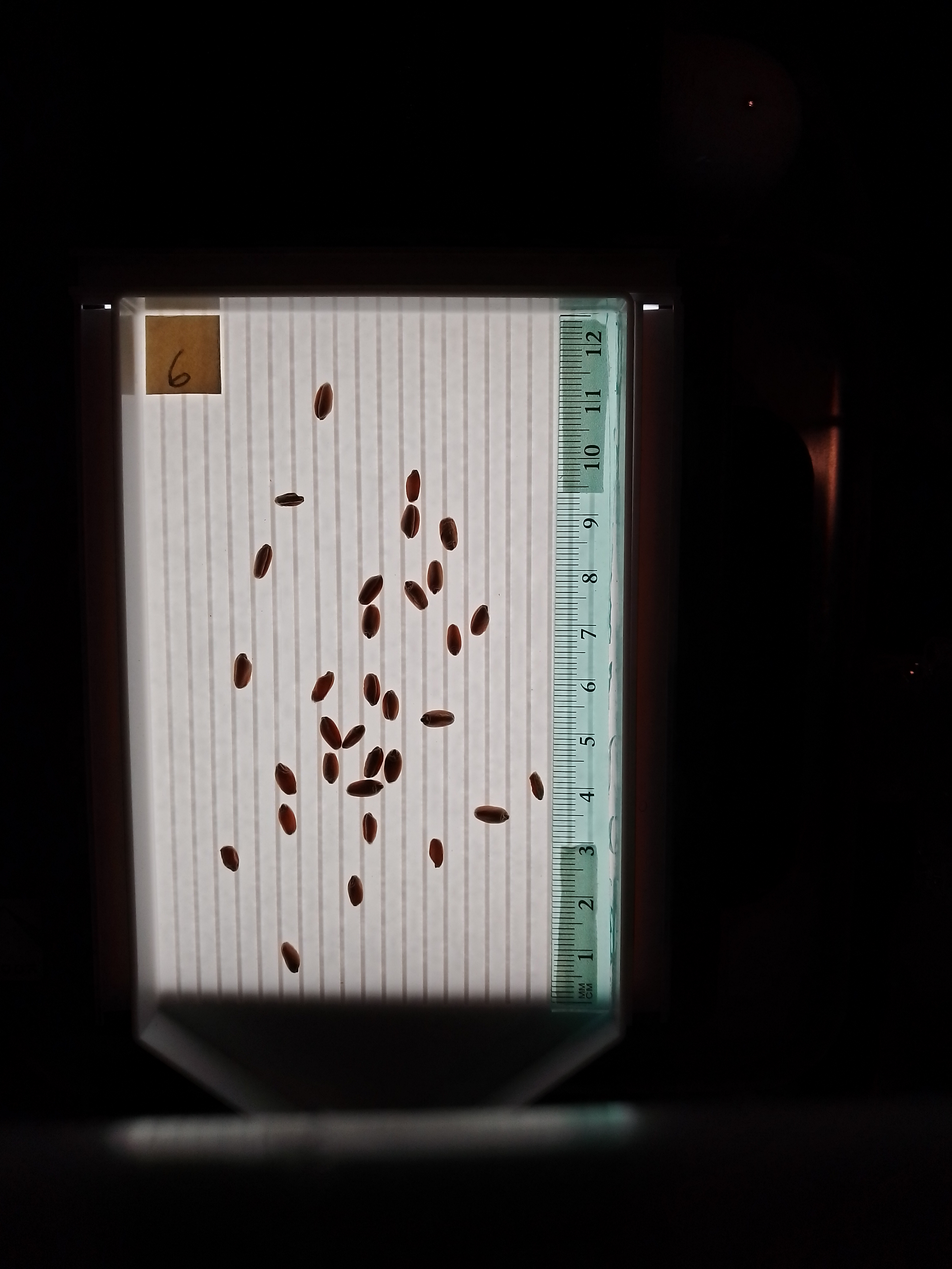seed mask: (274, 763, 297, 795), (359, 575, 383, 605), (347, 778, 382, 798), (320, 716, 341, 749), (314, 384, 333, 420), (312, 672, 334, 702), (475, 805, 508, 824), (401, 505, 420, 538), (405, 582, 427, 610), (234, 654, 252, 688), (254, 545, 272, 579), (281, 942, 300, 974), (361, 606, 380, 638), (470, 606, 490, 635), (384, 751, 402, 783), (422, 710, 454, 728), (440, 518, 458, 550), (427, 561, 444, 594), (364, 748, 383, 777), (278, 804, 296, 834), (342, 725, 364, 749), (363, 674, 380, 705), (322, 754, 340, 783), (382, 691, 400, 720), (362, 813, 378, 843), (275, 492, 304, 508), (220, 846, 238, 871), (429, 838, 444, 867), (348, 877, 363, 906), (406, 471, 420, 501), (447, 625, 461, 654), (530, 773, 544, 800)
